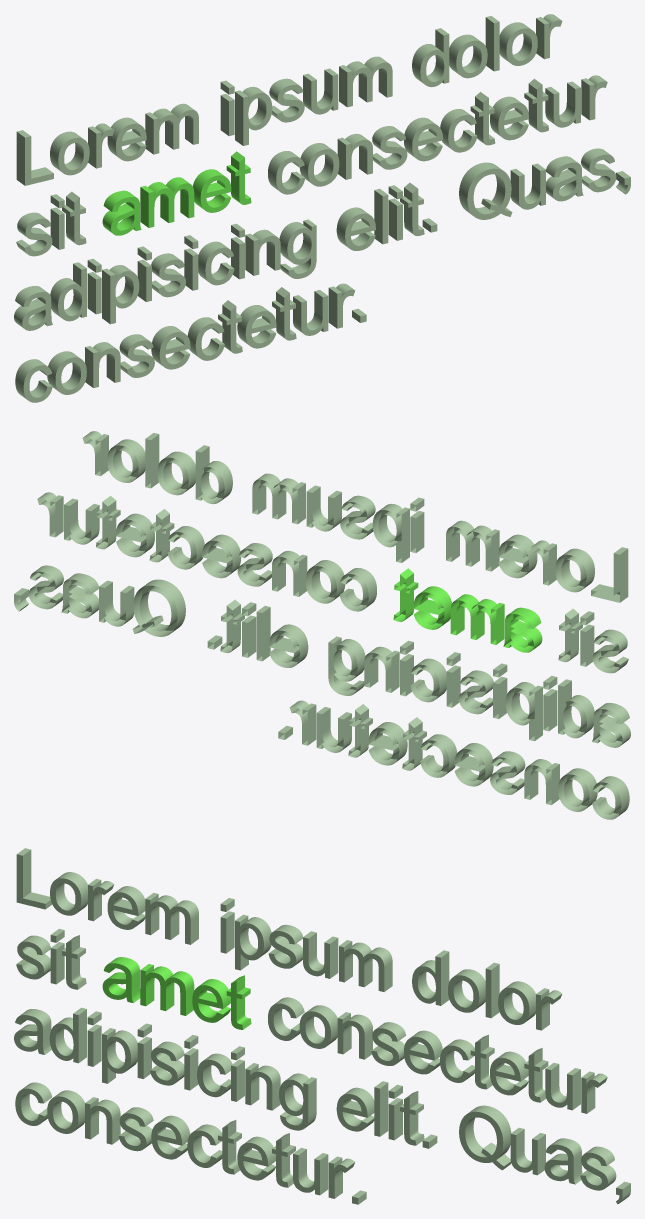
The model's file is surlignage.gltf.
3 views of the same model, one above another, from view 1: azimuth 30°, elevation 25°; view 2: azimuth 150°, elevation 25°; view 3: azimuth 330°, elevation 25° (orthographic).
Parts seen in each view (by area): view 1: texte; view 2: texte; view 3: texte.
Boxes of the visible parts, x1=… form: texte: x1=14, y1=14, x2=630, y2=402; texte: x1=14, y1=431, x2=630, y2=819; texte: x1=14, y1=848, x2=630, y2=1204.
Size of the model in its own units: 0.0565 by 0.0238 by 0.00135.
